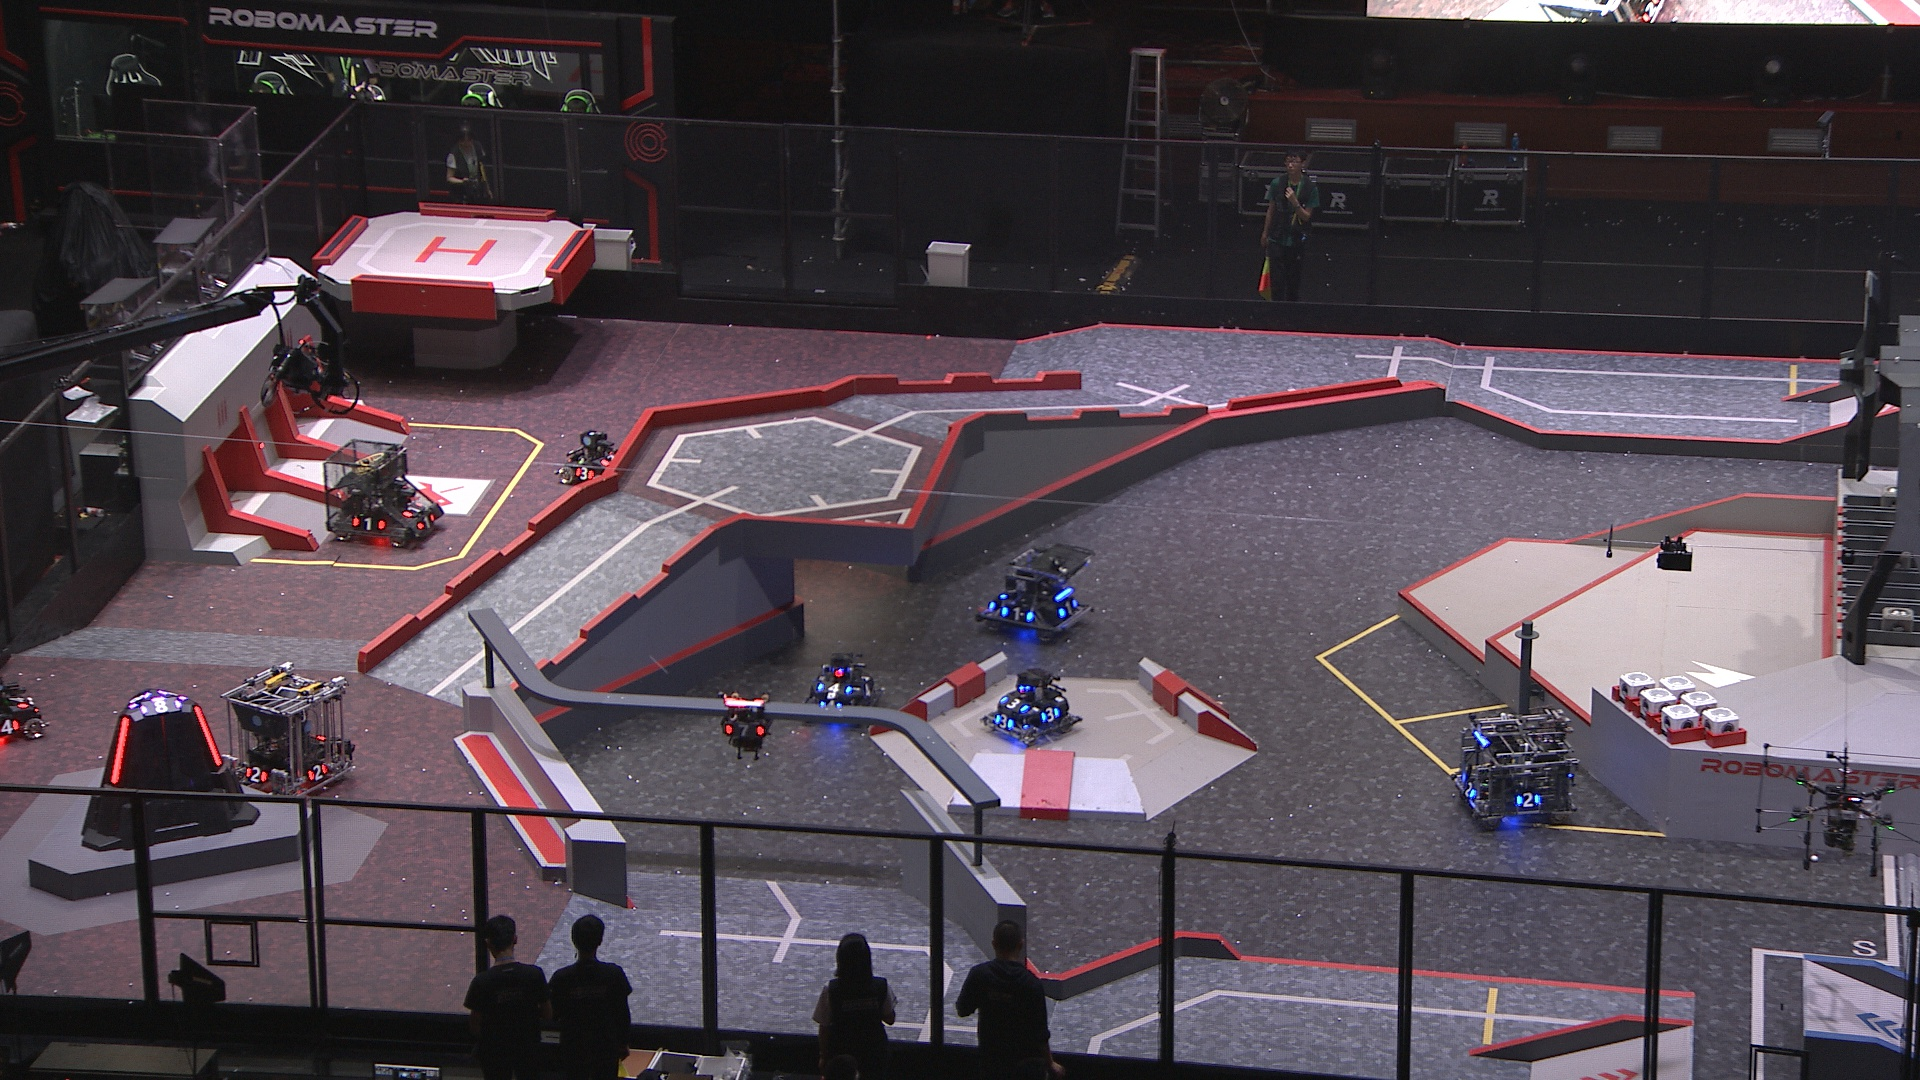armor: (191, 699, 222, 766), (109, 713, 131, 787), (723, 723, 765, 740), (996, 692, 1029, 713), (352, 516, 385, 533), (1001, 608, 1034, 624), (243, 765, 269, 785), (1059, 597, 1079, 621), (1514, 793, 1542, 808), (818, 680, 851, 694), (818, 700, 849, 713), (309, 764, 330, 783), (856, 680, 874, 702), (417, 513, 438, 531), (1040, 705, 1062, 723), (994, 713, 1015, 731), (998, 585, 1017, 604), (404, 501, 425, 517), (1461, 782, 1476, 804), (599, 450, 617, 467), (11, 692, 29, 709), (574, 465, 593, 481)
base: (80, 688, 262, 849)
car: (220, 657, 356, 799), (1452, 704, 1577, 832), (320, 436, 446, 553), (977, 538, 1096, 644), (977, 662, 1083, 746), (553, 429, 632, 500), (804, 647, 877, 717)
ignore: (138, 698, 185, 716)
watcher: (717, 688, 775, 760)
